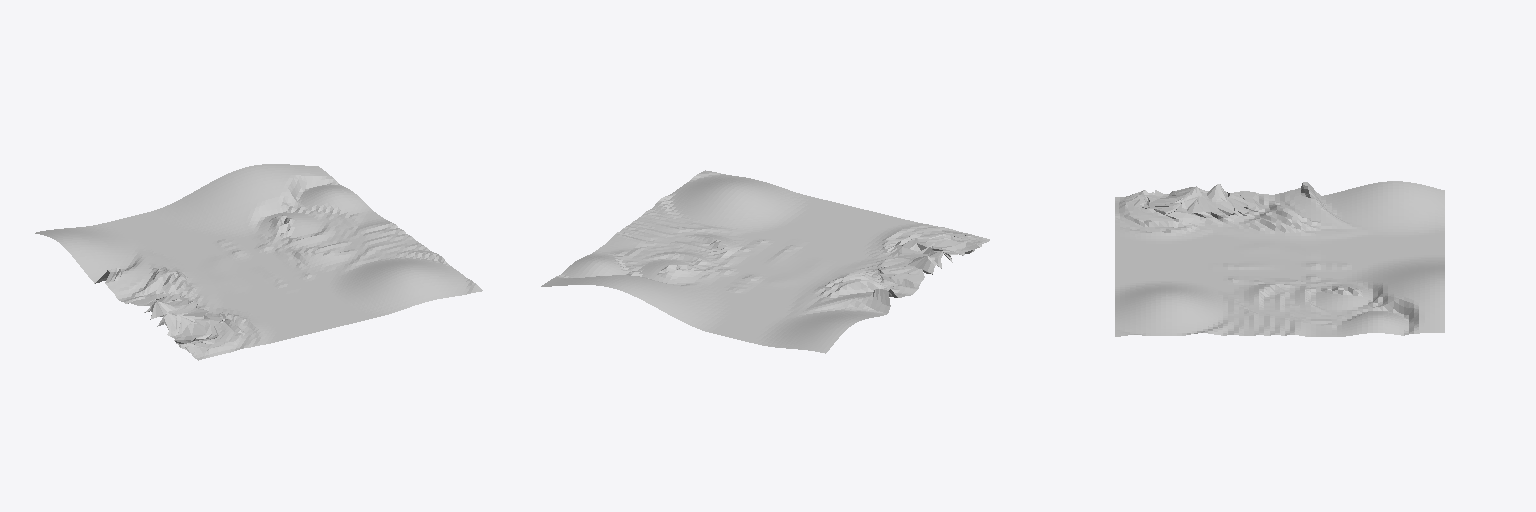
File: floor.obj
3 views of the same model, side by side, from view 1: azimuth 30°, elevation 25°; view 2: azimuth 150°, elevation 25°; view 3: azimuth 270°, elevation 25° (orthographic).
Visible parts, largest first — view 1: Plane; view 2: Plane; view 3: Plane.
Part boxes in pixels (x1,y1,x2,y2): Plane: (35, 164, 482, 360); Plane: (541, 170, 989, 353); Plane: (1115, 181, 1444, 336).
Bounding box in the file's own units: 87.02 × 6.03 × 85.87.